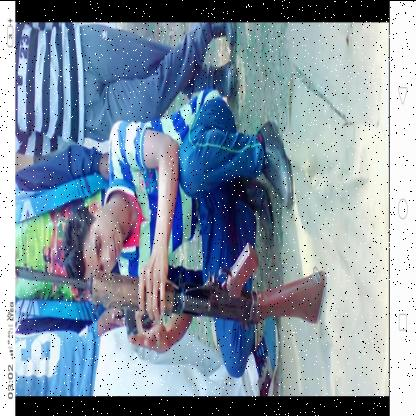rifle: (15, 238, 329, 330)
